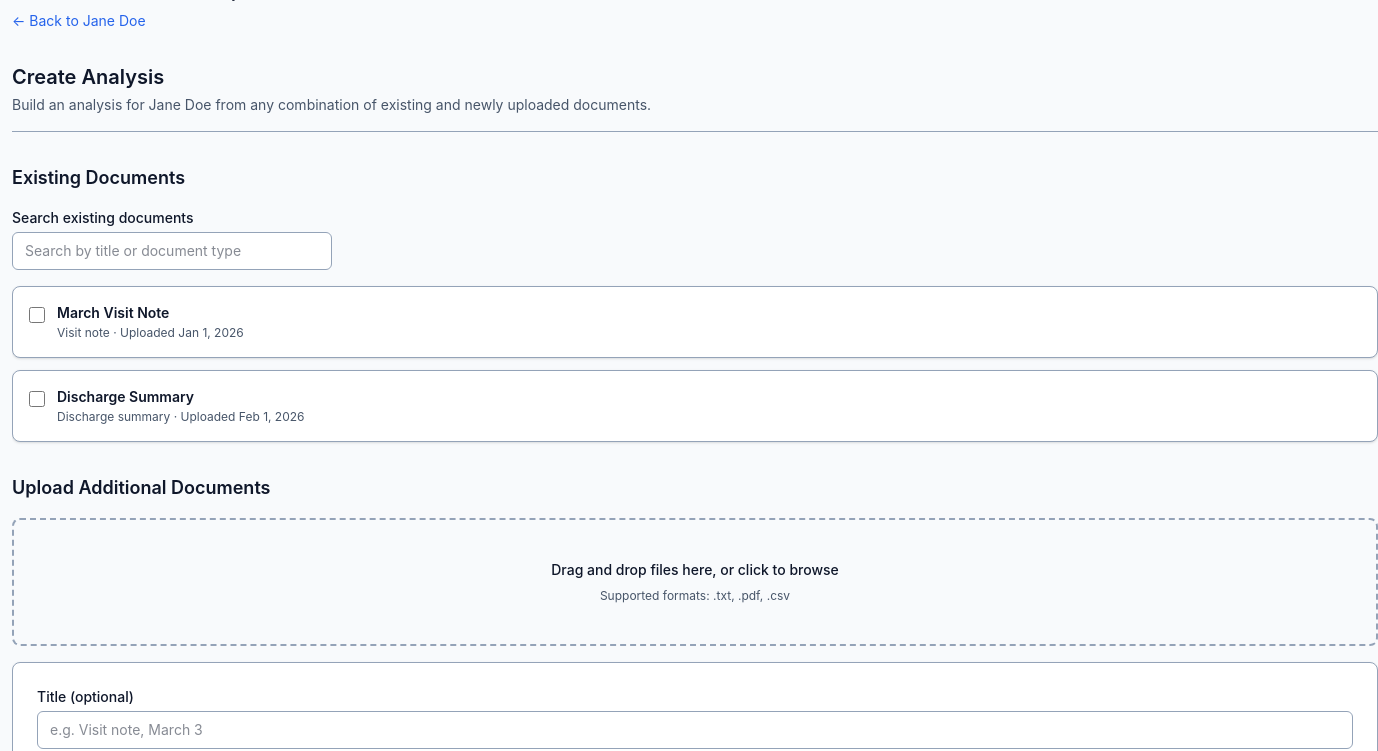
Test: CreateAnalysisPage › disables Create Analysis until at least one document is selected
Check: the heading "Create Analysis" is shown, box [12,65,164,89]
Click the checkbox labelled "March Visit Note Visit note · Uploaded Jan 1, 2026".
click(37, 315)  # box [29,307,45,323]
(page scrolled)
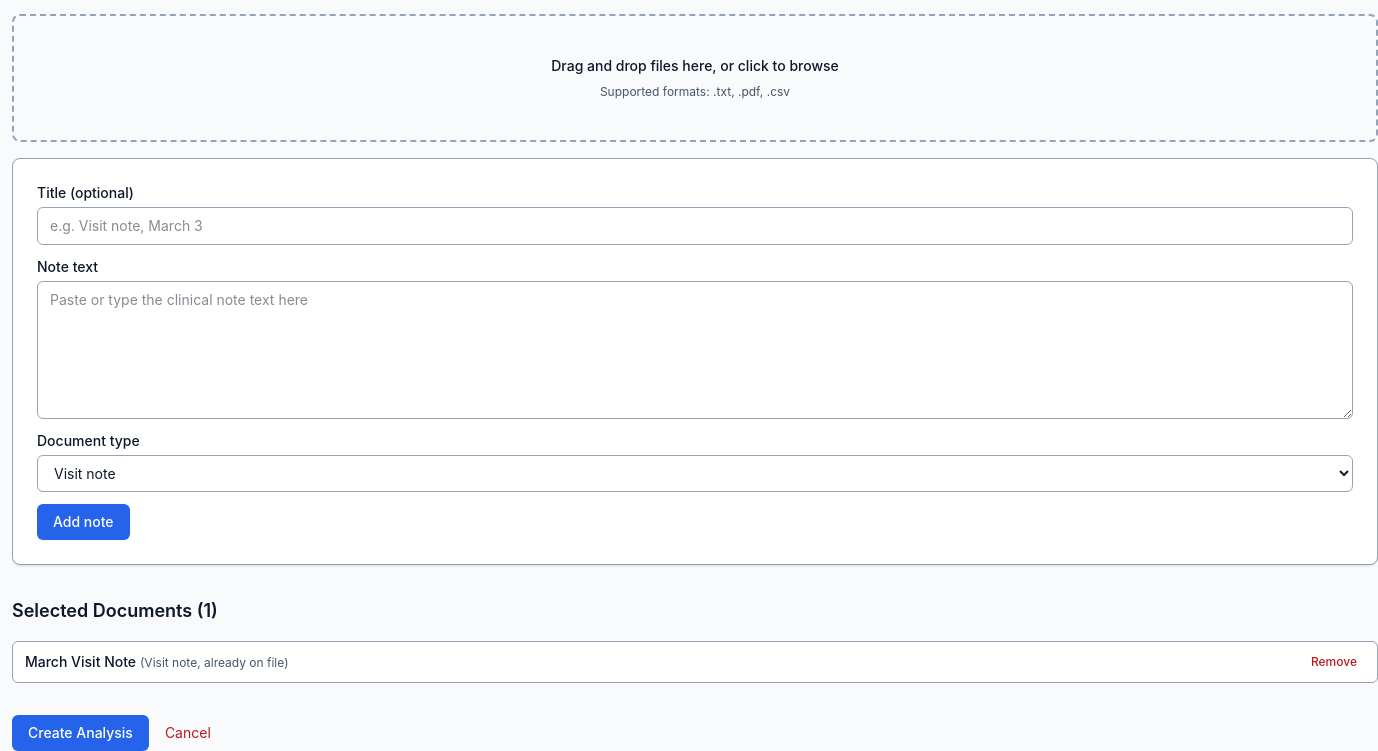
Check: the button "Create Analysis" is enabled, box [12,715,149,750]
